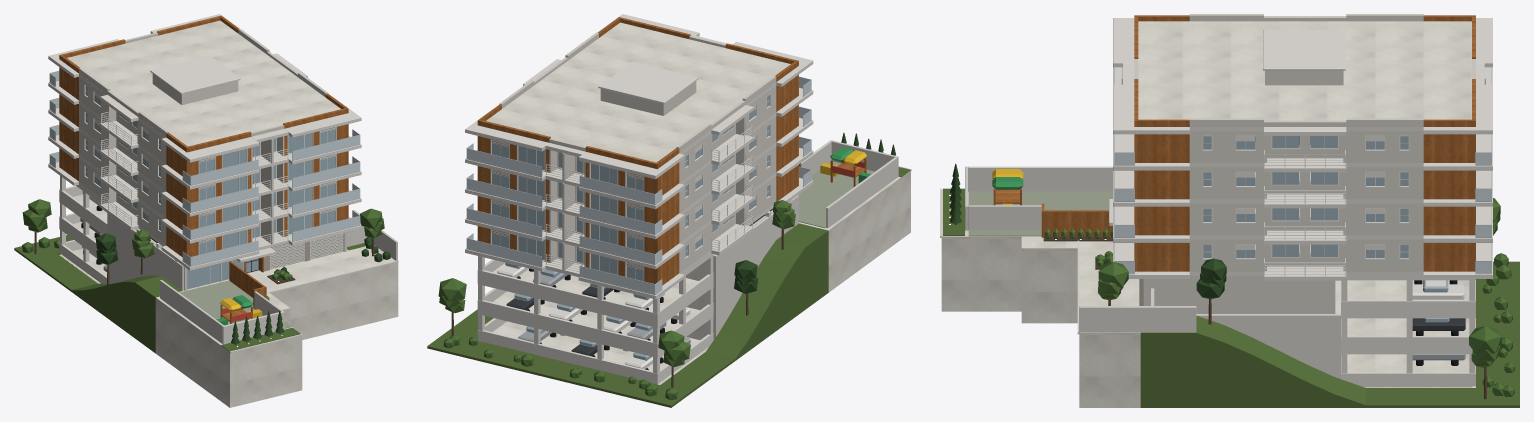
Rendered from garibaldi.glb.
The picture shows the model from 3 angles, left to right: view 1: azimuth 30°, elevation 25°; view 2: azimuth 150°, elevation 25°; view 3: azimuth 270°, elevation 25°; orthographic projection. The views are drawn at different scales.
Visible parts, largest first — view 1: cobertura_gar_concreto_sub, cobertura_gar_laje, cobertura_gar_reboco, cobertura_gar_madeira, subsolos_vidro, torre_vidro_guarda, lote_gar_grama, lote_gar_muro, terreo_gar_esquadria_branca, lote_gar_folhagem, lote_gar_folhagem_esc, torre_gar_metal (+3 smaller); view 2: cobertura_gar_laje, cobertura_gar_concreto_sub, lote_gar_grama, cobertura_gar_reboco, cobertura_gar_madeira, subsolos_vidro, torre_vidro_guarda, lote_gar_muro, terreo_gar_esquadria_branca, lote_gar_folhagem, lote_gar_play_piso, torre_gar_metal (+5 smaller); view 3: cobertura_gar_concreto_sub, cobertura_gar_laje, cobertura_gar_reboco, lote_gar_grama, cobertura_gar_madeira, lote_gar_muro, subsolos_vidro, terreo_gar_esquadria_branca, lote_gar_folhagem, lote_gar_play_piso, torre_vidro_guarda, lote_gar_folhagem_esc (+4 smaller).
Part boxes in pixels (x1,y1,x2,y2): cobertura_gar_concreto_sub: [60, 20, 398, 407]; cobertura_gar_laje: [48, 14, 398, 353]; cobertura_gar_reboco: [79, 29, 346, 290]; cobertura_gar_madeira: [59, 15, 348, 323]; subsolos_vidro: [85, 86, 335, 289]; torre_vidro_guarda: [49, 71, 360, 266]; lote_gar_grama: [14, 235, 365, 353]; lote_gar_muro: [107, 210, 397, 344]; terreo_gar_esquadria_branca: [84, 84, 343, 287]; lote_gar_folhagem: [22, 199, 384, 280]; lote_gar_folhagem_esc: [95, 233, 390, 344]; torre_gar_metal: [49, 71, 360, 266]; cobertura_gar_laje: [465, 14, 911, 384]; cobertura_gar_concreto_sub: [486, 22, 910, 384]; lote_gar_grama: [427, 167, 910, 407]; cobertura_gar_reboco: [499, 32, 776, 282]; cobertura_gar_madeira: [477, 17, 866, 285]; subsolos_vidro: [492, 95, 769, 360]; torre_vidro_guarda: [466, 77, 811, 294]; lote_gar_muro: [713, 140, 898, 339]; terreo_gar_esquadria_branca: [490, 93, 770, 280]; lote_gar_folhagem: [438, 200, 795, 400]; lote_gar_play_piso: [798, 161, 874, 227]; torre_gar_metal: [466, 76, 811, 295]; cobertura_gar_concreto_sub: [941, 21, 1475, 407]; cobertura_gar_laje: [940, 16, 1492, 386]; cobertura_gar_reboco: [1121, 14, 1485, 313]; lote_gar_grama: [943, 188, 1519, 407]; cobertura_gar_madeira: [993, 15, 1475, 271]; lote_gar_muro: [965, 166, 1340, 378]; subsolos_vidro: [1203, 136, 1449, 322]; terreo_gar_esquadria_branca: [1202, 135, 1409, 276]; lote_gar_folhagem: [1095, 198, 1514, 396]; lote_gar_play_piso: [968, 191, 1112, 236]; torre_vidro_guarda: [1114, 153, 1491, 273]; lote_gar_folhagem_esc: [950, 163, 1226, 299].
Bounding box in the file's own units: 25.14 × 22.6 × 42.12.
34 materials, 4 textured.
